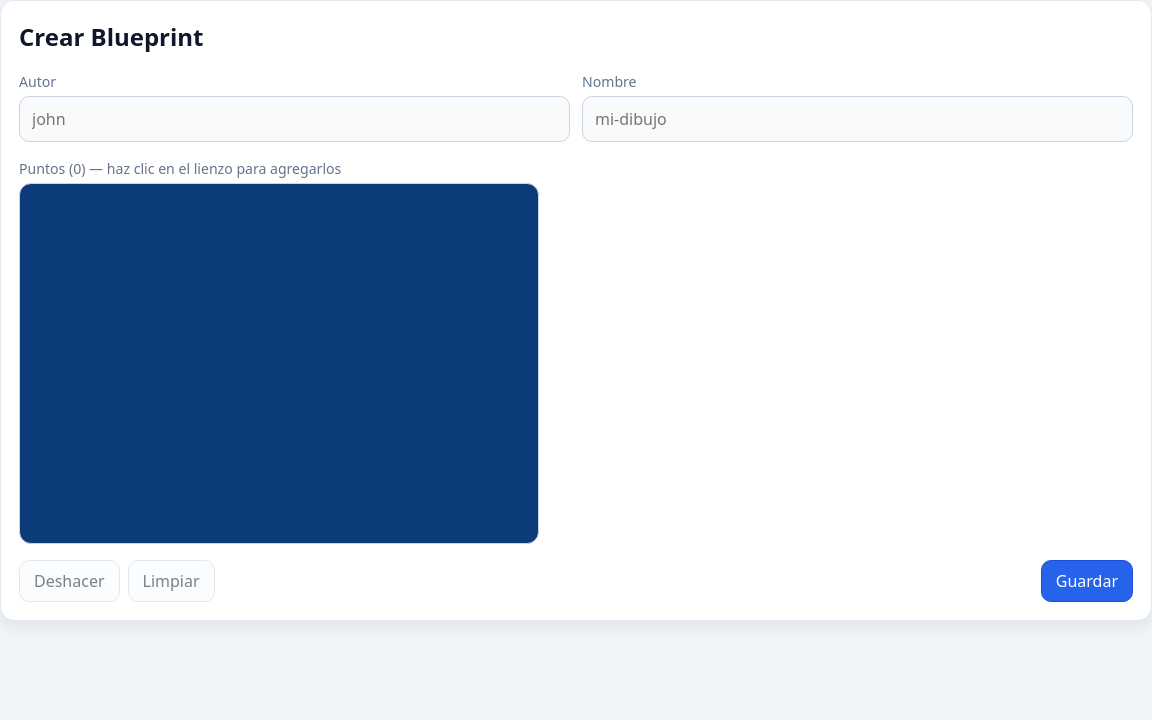
Test: BlueprintForm › Deshacer y Limpiar modifican los puntos
What coordinates should you click on to do the following:
click the picture with test id "blueprint-canvas"
I would click on:
 (279, 364)
Its box is left=19, top=183, right=539, bottom=544.
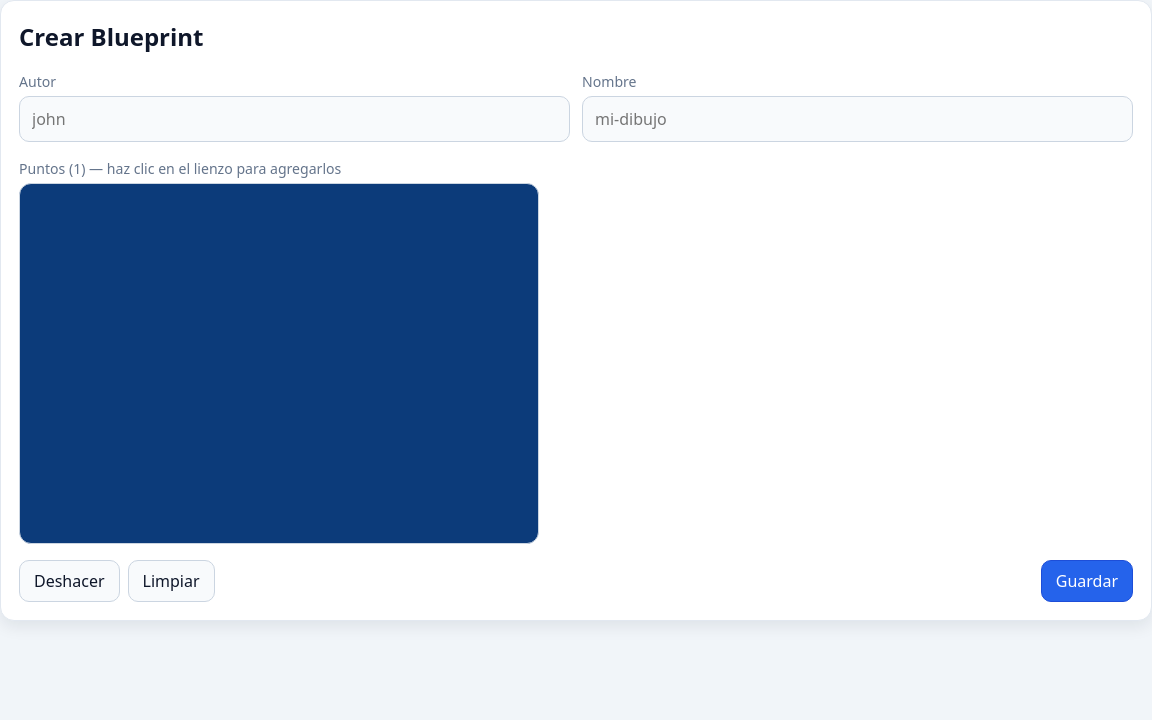
What coordinates should you click on to do the following:
click the picture with test id "blueprint-canvas"
I would click on:
 (279, 364)
Its box is left=19, top=183, right=539, bottom=544.
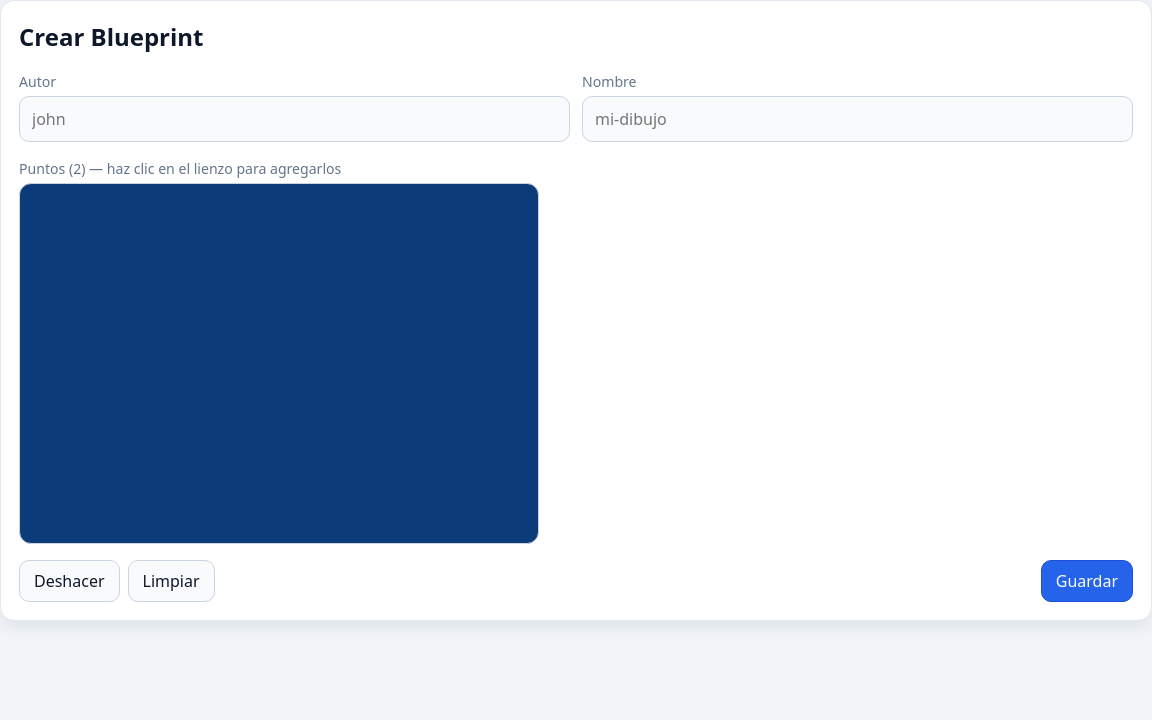
What coordinates should you click on to do the following:
click the picture with test id "blueprint-canvas"
I would click on:
 (279, 364)
Its box is left=19, top=183, right=539, bottom=544.
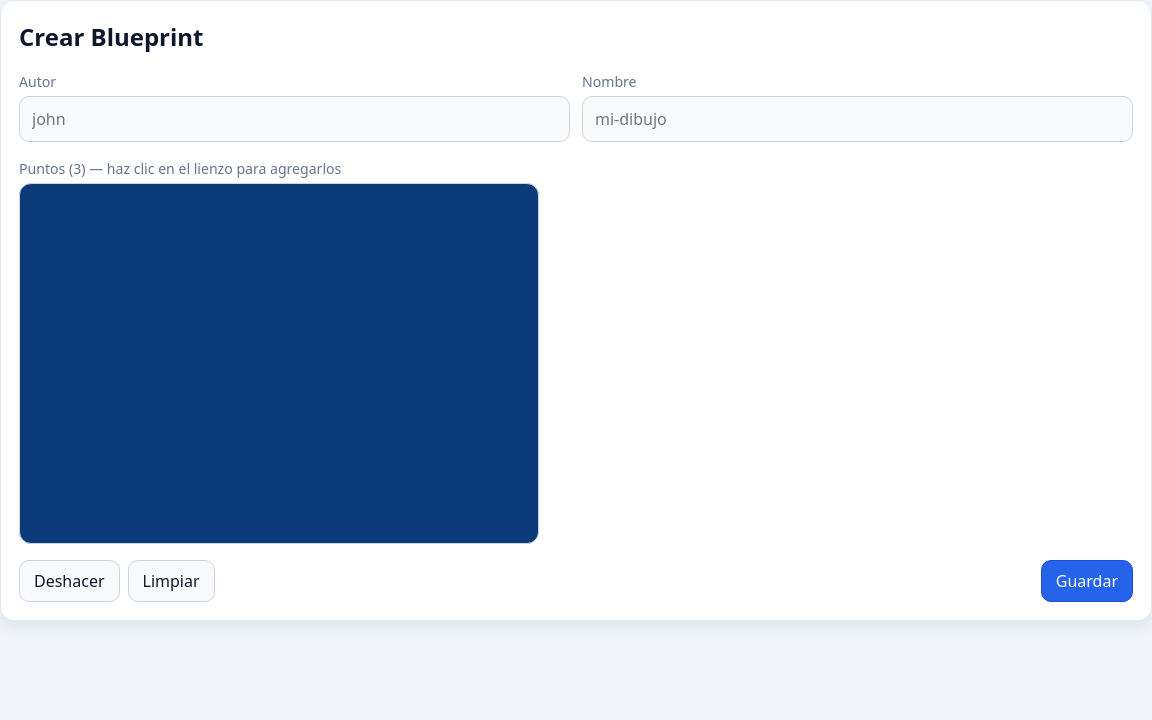
expect the text "Puntos (3) — haz clic en el lienzo para agregarlos" is shown: met, box left=19, top=159, right=341, bottom=178
What coordinates should you click on to do the following:
click the button "Deshacer"
I would click on:
 (69, 581)
Its box is left=19, top=560, right=120, bottom=602.
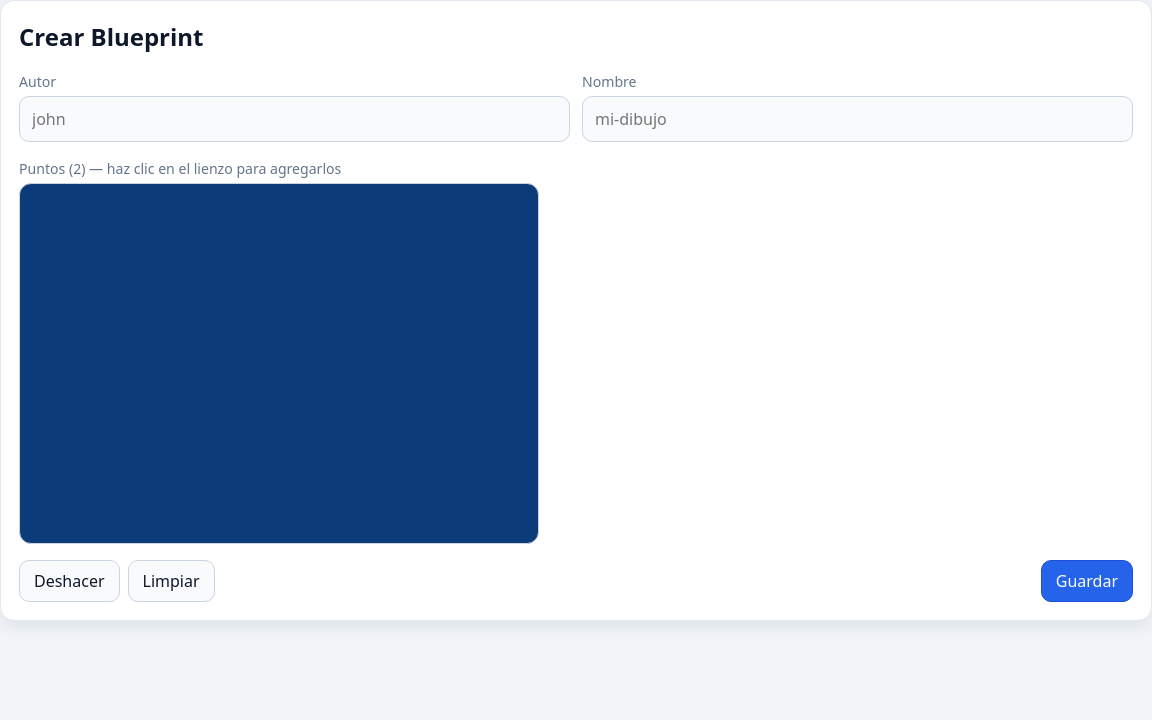
expect the text "Puntos (2) — haz clic en el lienzo para agregarlos" is shown: met, box left=19, top=159, right=341, bottom=178
What coordinates should you click on to do the following:
click the button "Limpiar"
I would click on:
 (171, 581)
Its box is left=128, top=560, right=214, bottom=602.
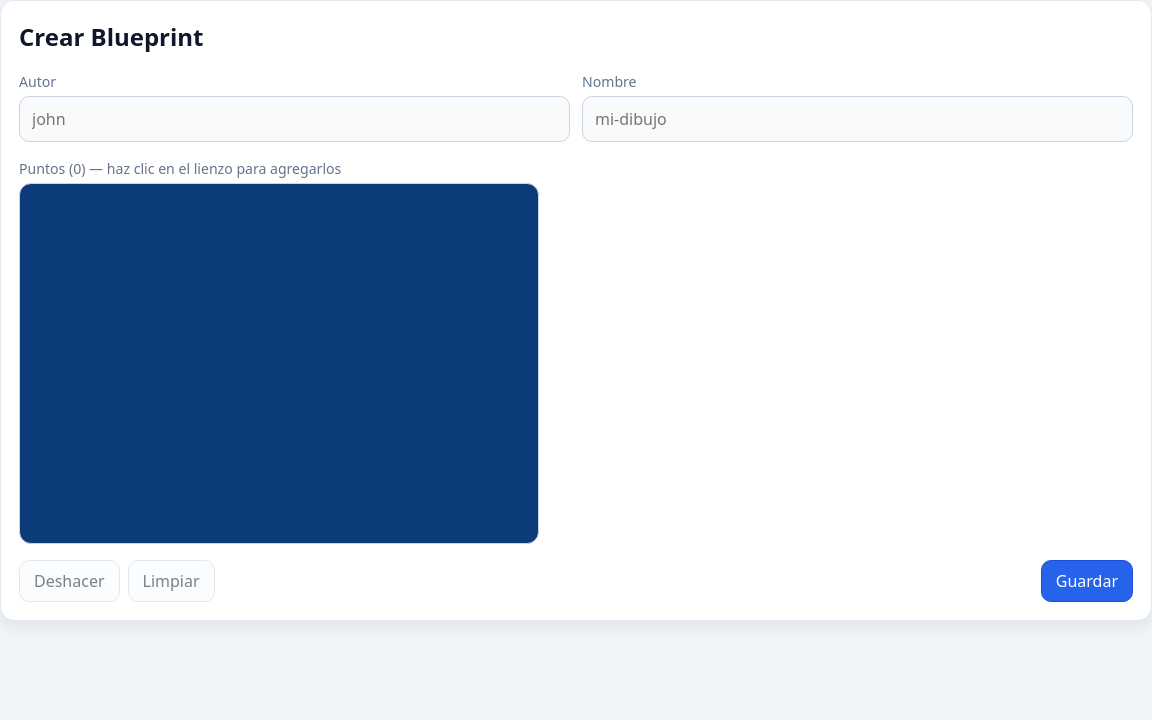
expect the text "Puntos (0) — haz clic en el lienzo para agregarlos" is shown: met, box left=19, top=159, right=341, bottom=178
